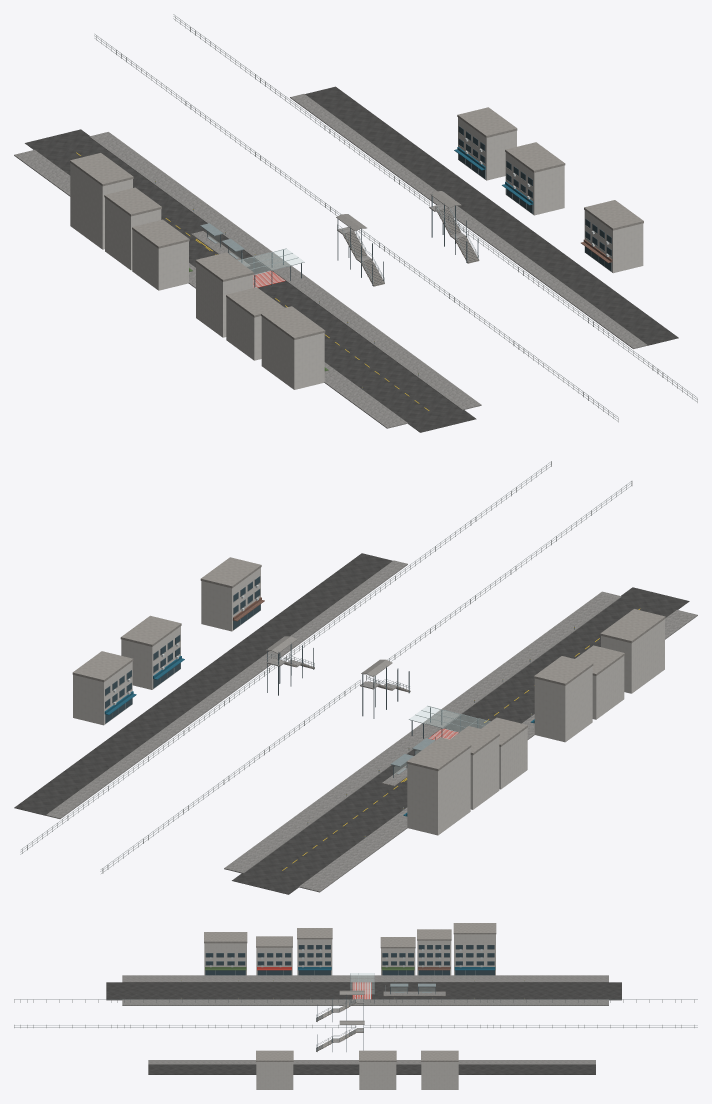
Rendered from Jeongwang.fbx.
The picture shows the model from 3 angles, top to bottom: view 1: azimuth 30°, elevation 25°; view 2: azimuth 150°, elevation 25°; view 3: azimuth 270°, elevation 25°; orthographic projection. The views are drawn at different scales.
Visible parts, largest first — view 1: Access_+00_concrete; view 2: Access_+00_concrete; view 3: Access_+00_concrete.
Part boxes in pixels (<box>): Access_+00_concrete: <box>14,14,697,432</box>; Access_+00_concrete: <box>14,461,697,894</box>; Access_+00_concrete: <box>14,923,697,1089</box>.
Bounding box in the file's own units: 9045 × 1463 × 21083.
Materials: 19 (8 with a texture image).
